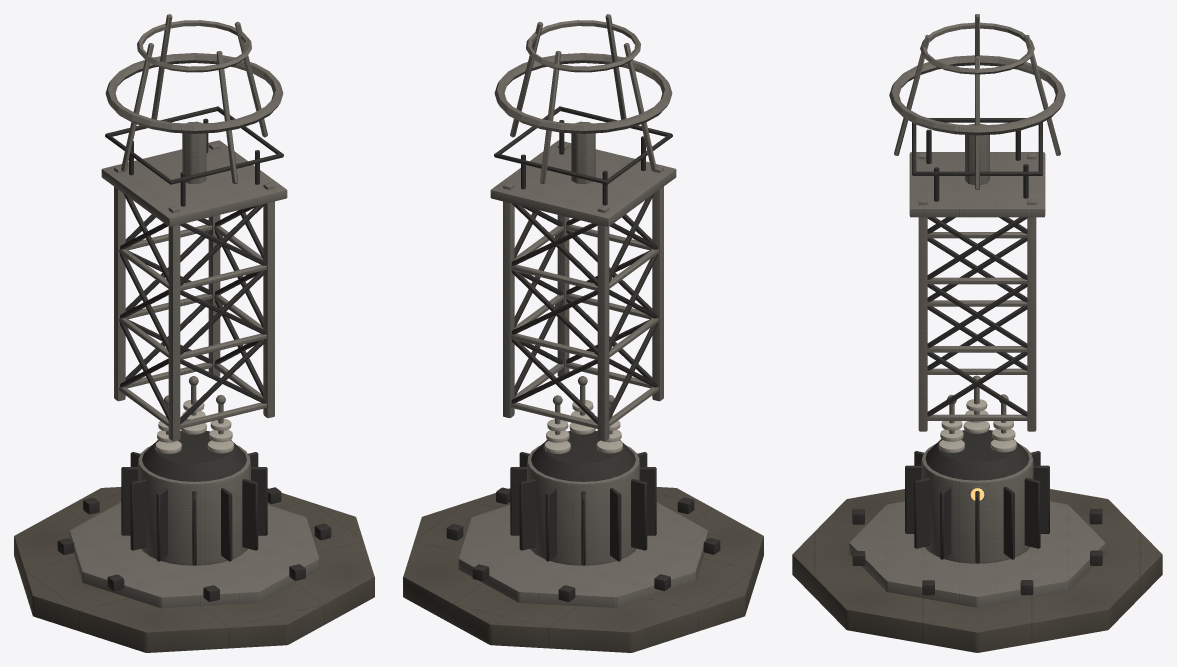
The model's file is reactor_tap.glb.
The picture shows the model from 3 angles, left to right: view 1: azimuth 30°, elevation 25°; view 2: azimuth 150°, elevation 25°; view 3: azimuth 270°, elevation 25°; orthographic projection.
Visible parts, largest first — view 1: footing, flange, deck, drum, yoke, conservator, leg_-1-1, leg_1-1, leg_-11, cage_hoop, leg_11, fin9 (+19 smaller); view 2: footing, flange, deck, drum, yoke, conservator, leg_-11, leg_11, leg_-1-1, cage_hoop, leg_1-1, hanger (+19 smaller); view 3: footing, flange, deck, drum, yoke, conservator, leg_1-1, leg_11, cage_hoop, fin1, fin5, hanger (+24 smaller).
Boxes of the visible parts, bbox=[...] form: footing: bbox=[14, 487, 374, 652]; flange: bbox=[69, 502, 319, 608]; deck: bbox=[101, 140, 287, 226]; drum: bbox=[138, 445, 250, 565]; yoke: bbox=[105, 53, 283, 133]; conservator: bbox=[142, 431, 246, 481]; leg_-1-1: bbox=[168, 206, 180, 441]; leg_1-1: bbox=[263, 182, 274, 417]; leg_-11: bbox=[114, 165, 125, 401]; cage_hoop: bbox=[137, 20, 251, 72]; leg_11: bbox=[208, 142, 220, 376]; fin9: bbox=[130, 479, 146, 550]; footing: bbox=[403, 487, 763, 652]; flange: bbox=[458, 502, 708, 608]; deck: bbox=[490, 140, 676, 226]; drum: bbox=[527, 445, 639, 565]; yoke: bbox=[494, 53, 672, 133]; conservator: bbox=[531, 430, 635, 481]; leg_-11: bbox=[597, 206, 609, 441]; leg_11: bbox=[503, 182, 514, 417]; leg_-1-1: bbox=[652, 165, 663, 401]; cage_hoop: bbox=[526, 20, 640, 72]; leg_1-1: bbox=[557, 143, 569, 376]; hanger: bbox=[571, 121, 595, 184]; footing: bbox=[792, 489, 1162, 652]; flange: bbox=[849, 501, 1105, 607]; deck: bbox=[909, 152, 1045, 217]; drum: bbox=[921, 444, 1033, 563]; yoke: bbox=[889, 55, 1065, 135]; conservator: bbox=[925, 430, 1029, 480]; leg_1-1: bbox=[918, 199, 927, 431]; leg_11: bbox=[1027, 199, 1036, 431]; cage_hoop: bbox=[920, 22, 1034, 74]; fin1: bbox=[1024, 477, 1040, 548]; fin5: bbox=[914, 477, 930, 548]; hanger: bbox=[965, 123, 989, 184].
Size of the model in its own units: 4.09 by 6.58 by 4.09.
5 materials, 3 textured.
